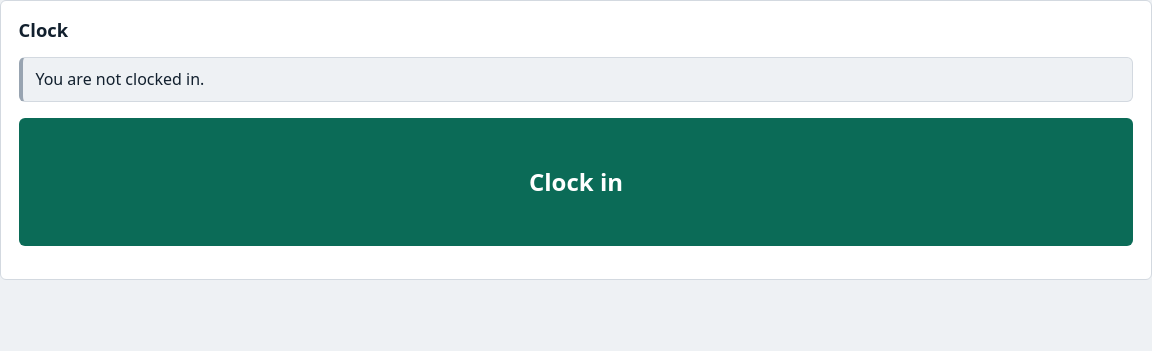
Test: after a dropped connection it checks /status and shows that the punch was recorded
Click the button "Clock in".
click(576, 182)  # box [19,118,1133,246]
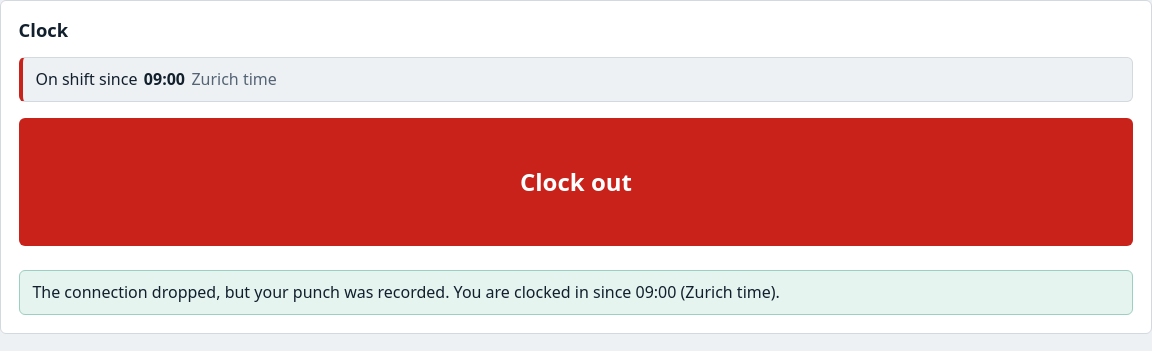
expect the text "your punch was recorded" is shown: met, box [32,282,780,304]
expect the button "Clock out" is shown: met, box [19,118,1133,246]
